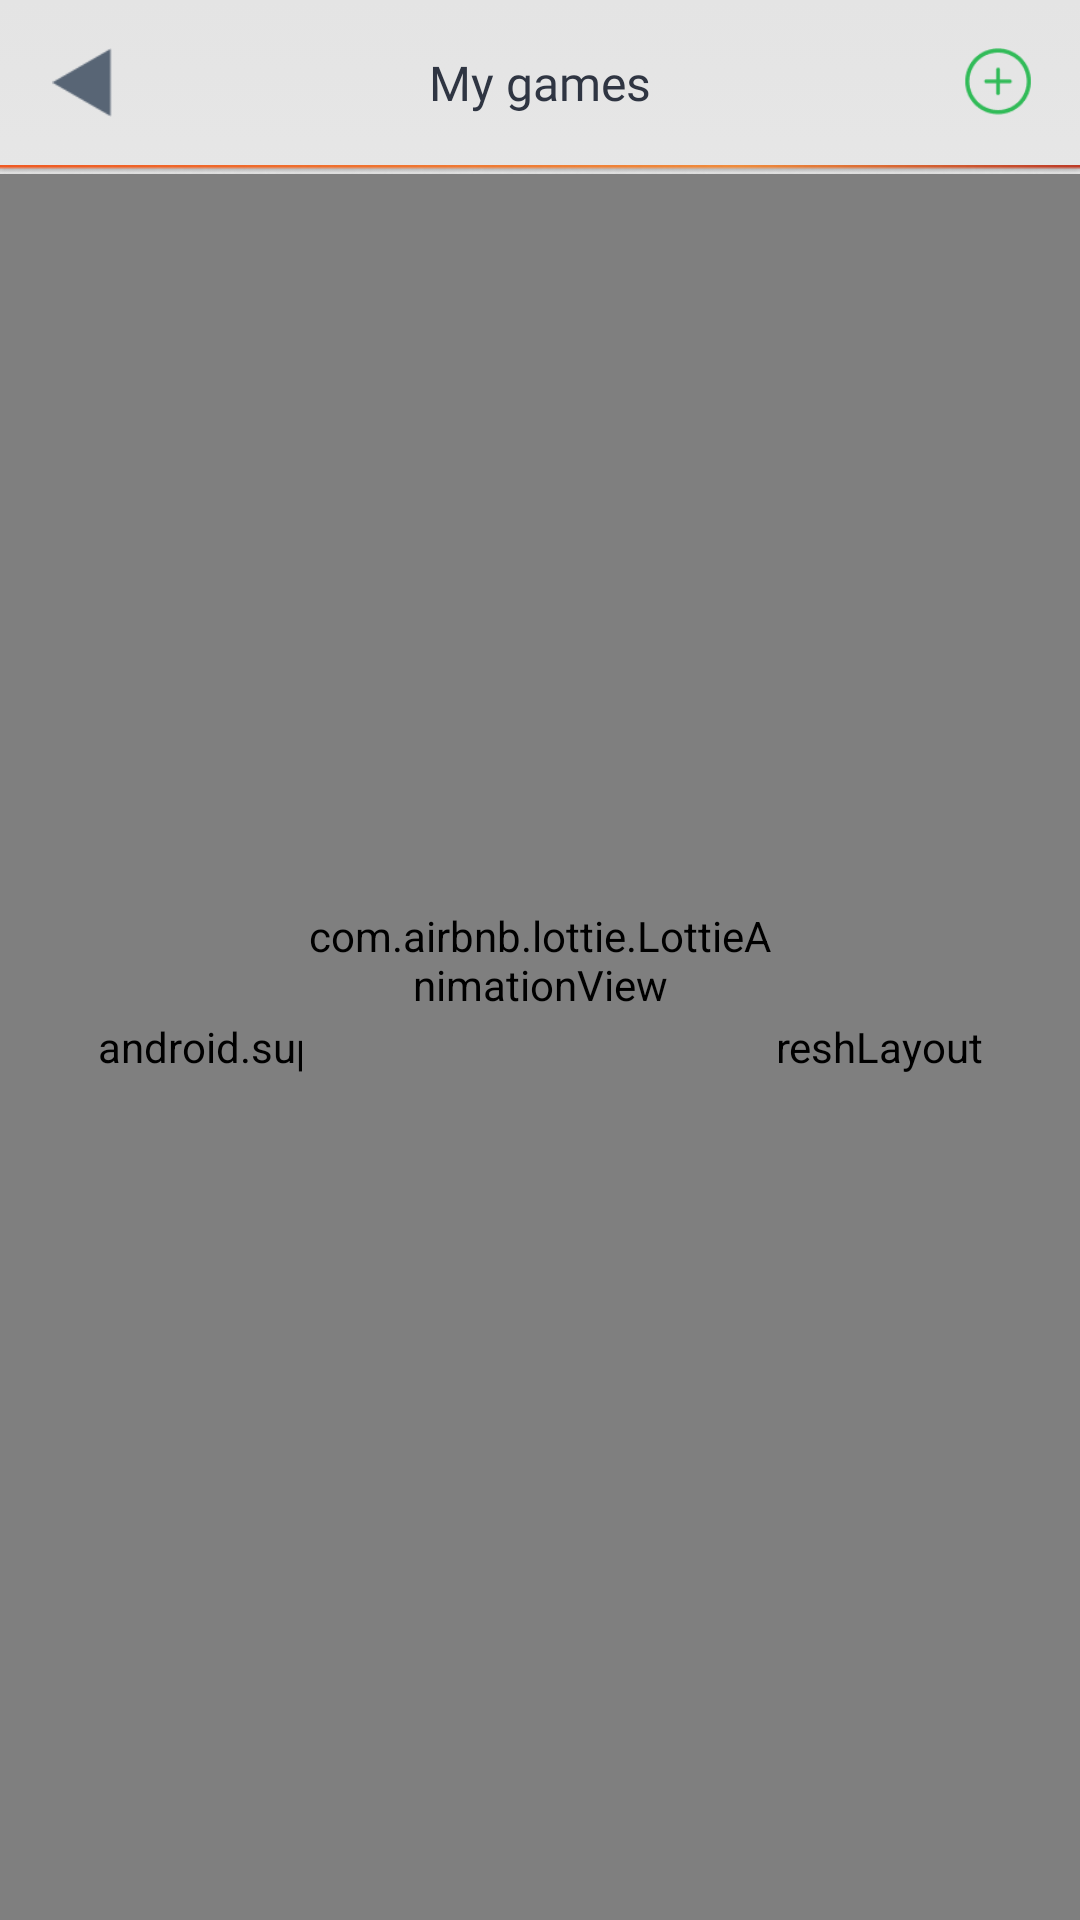

Named icons in this screenshot (1080*1920) and their centers, (x,y):
add: (998,81)
setting back: (81,82)
